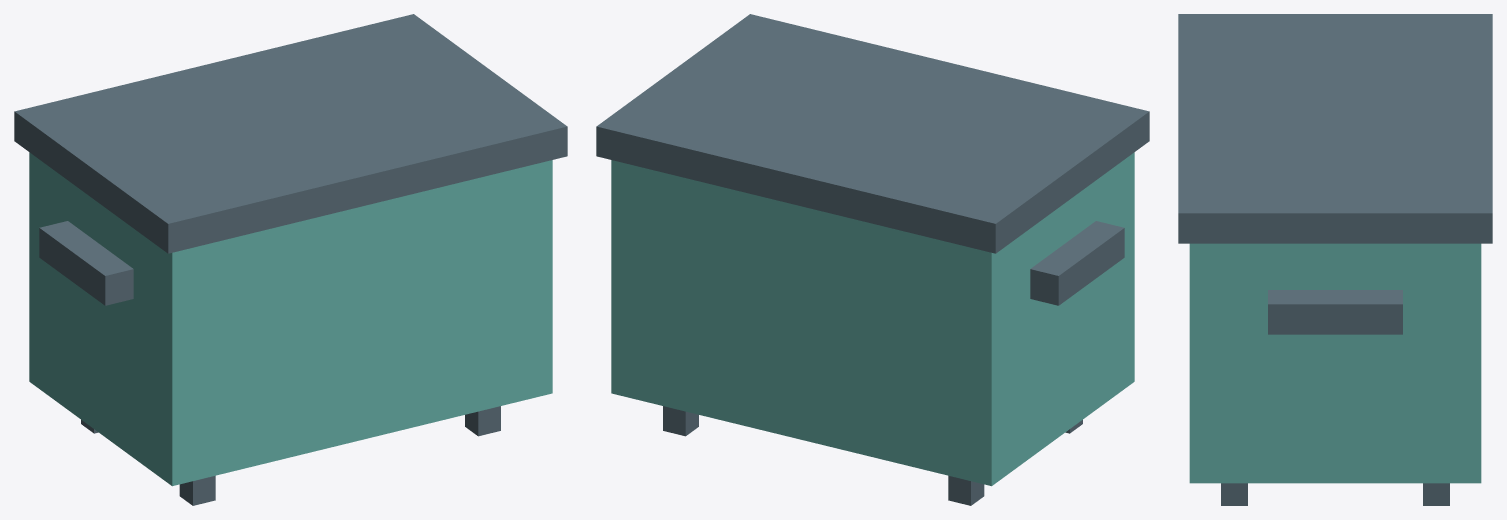
Rendered from voxel-city-districts-dumpster-ba9b1ab5__24847.glb.
3 renders of one model, left to right at view 1: azimuth 30°, elevation 25°; view 2: azimuth 150°, elevation 25°; view 3: azimuth 270°, elevation 25°, orthographic. The views are drawn at different scales.
Parts seen in each view (by area): view 1: dumpster-accent, dumpster-dark; view 2: dumpster-accent, dumpster-dark; view 3: dumpster-dark, dumpster-accent.
Boxes of the visible parts, bbox=[...] form: dumpster-accent: bbox=[29, 152, 552, 486]; dumpster-dark: bbox=[14, 14, 567, 505]; dumpster-accent: bbox=[611, 152, 1134, 486]; dumpster-dark: bbox=[596, 14, 1149, 505]; dumpster-dark: bbox=[1178, 14, 1492, 505]; dumpster-accent: bbox=[1189, 243, 1481, 483].
Size of the model in its own units: 2.3 by 1.55 by 1.4.
